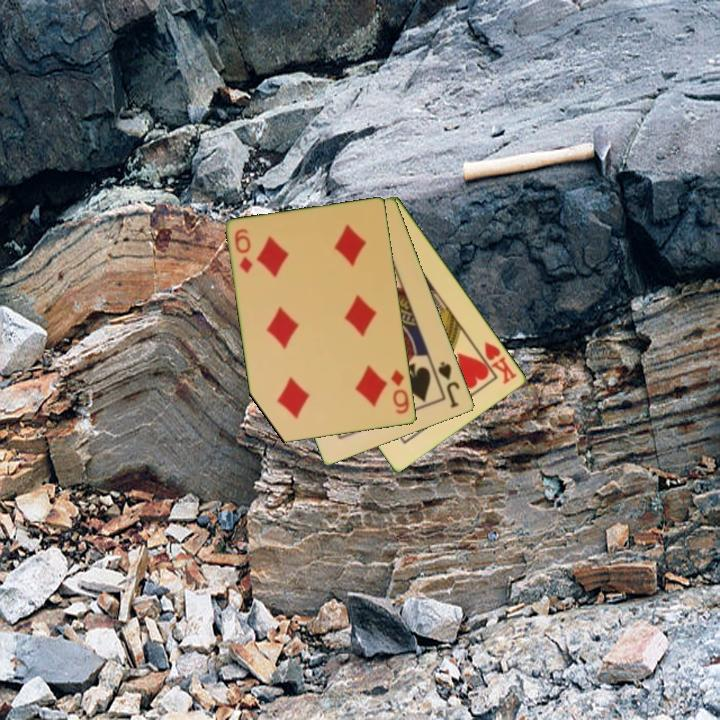6d: (231, 225, 256, 277), (388, 366, 412, 417)
Js: (435, 358, 463, 411)
Kh: (472, 338, 520, 387)
